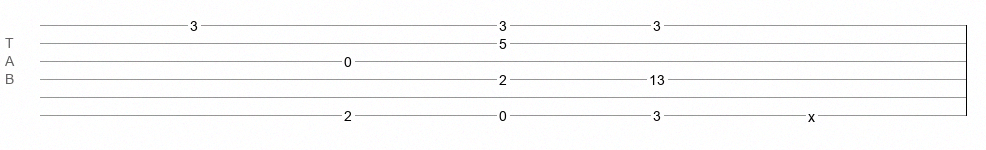0: (344, 54, 352, 64), (499, 108, 507, 118)
13: (649, 72, 665, 82)
2: (344, 108, 352, 118), (499, 72, 507, 82)
3: (190, 18, 198, 28), (499, 18, 507, 28), (653, 108, 661, 118), (653, 18, 661, 28)
5: (499, 36, 507, 46)
x: (808, 109, 815, 117)
